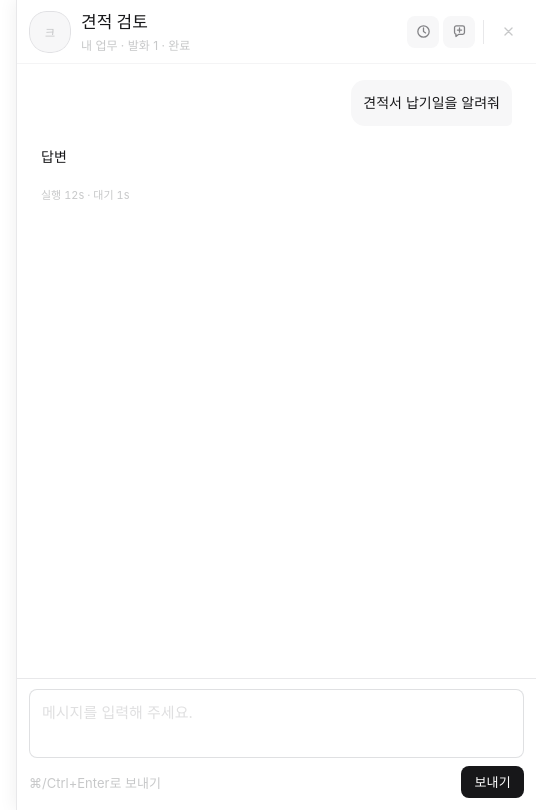
it: ChatDrawer session switcher › replaces the conversation and composer with the history/search utility screen
Click the button named "대화 히스토리" at [423, 32], box [407,16,439,48]
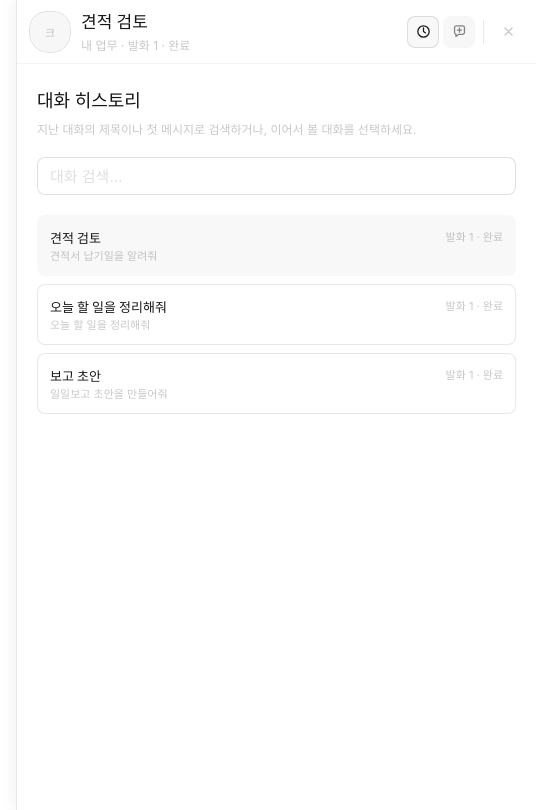
Check: the field labelled "AX 메시지" is not shown
Check: the element named "대화 히스토리 화면" is shown
Check: the search field labelled "대화 검색" is shown, box [37,157,516,195]
Click the button named "대화 히스토리" at [423, 32], box [407,16,439,48]
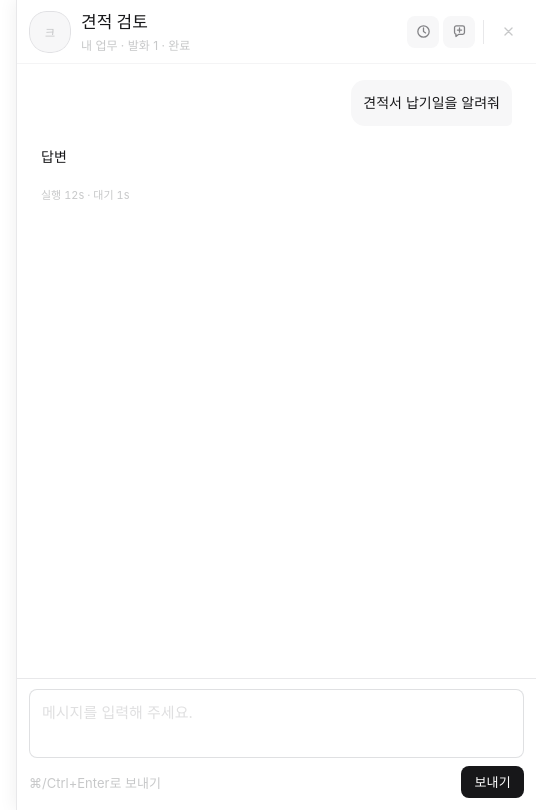
Check: the text box named "AX 메시지" is shown, box [29,689,524,758]
Click the button named "대화 히스토리" at [423, 32], box [407,16,439,48]
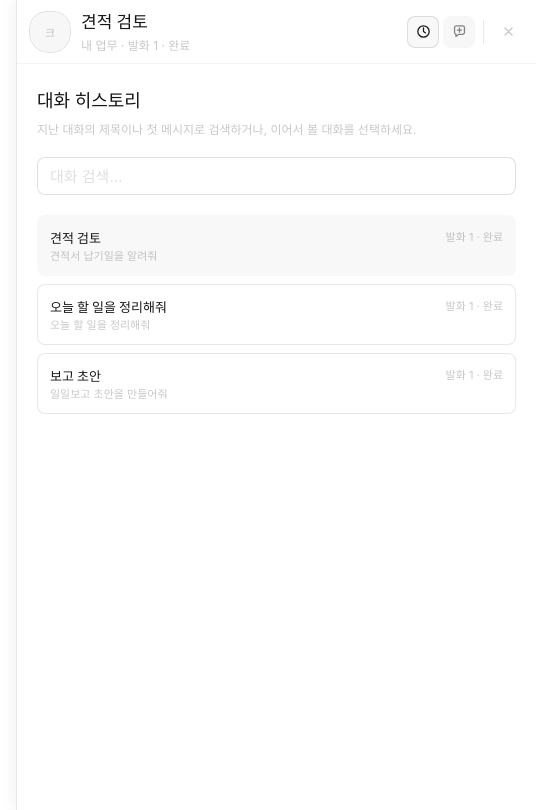
Click the button "보고 초안 발화 1 · 완료 일일보고 초안을 만들어줘" at [75, 376], box [37,353,516,414]
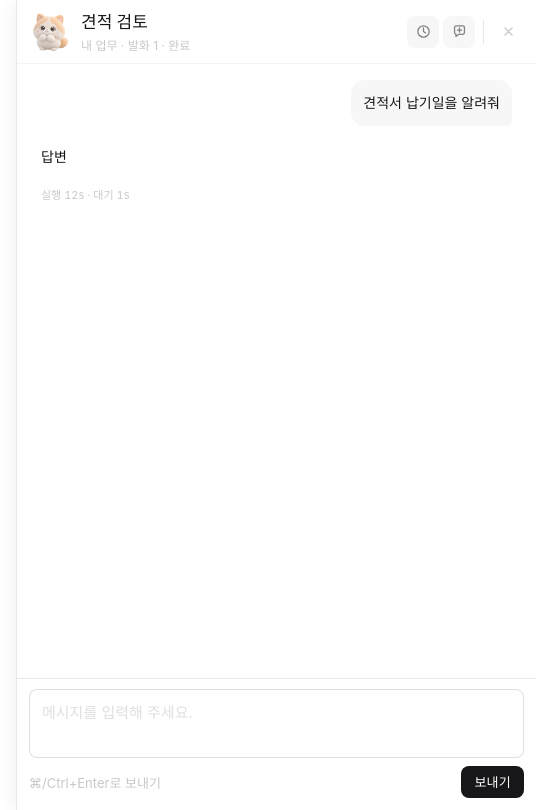
Check: the text box named "AX 메시지" is shown, box [29,689,524,758]
